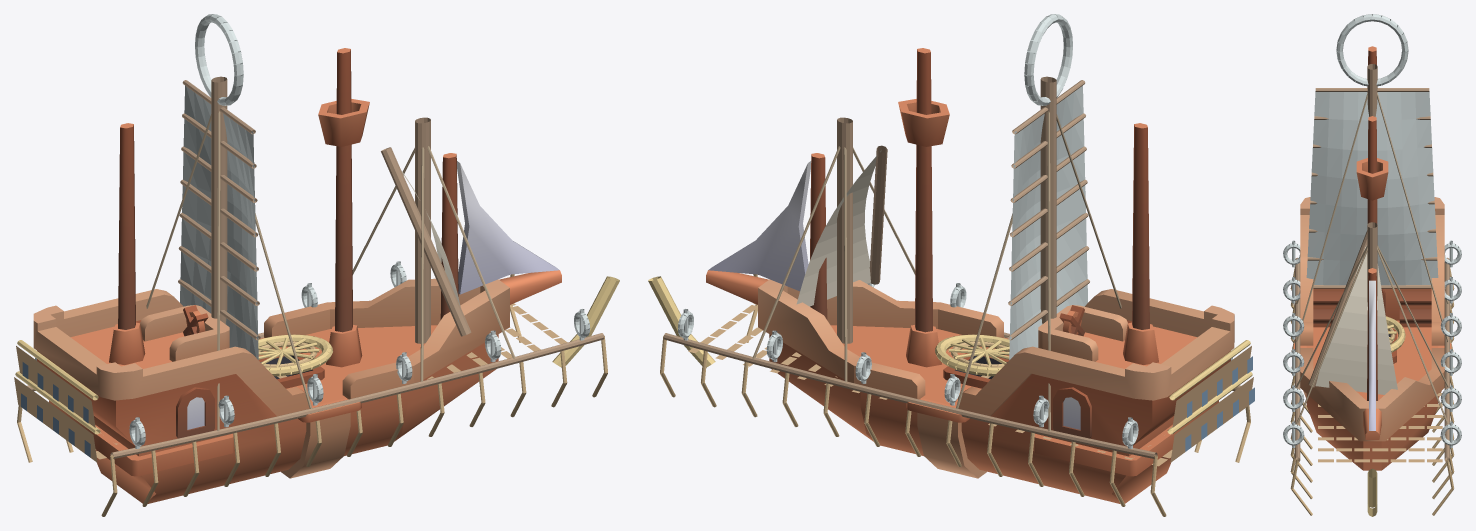
The model's file is mist_seeker-custom.glb.
3 renders of one model, left to right at view 1: azimuth 30°, elevation 25°; view 2: azimuth 150°, elevation 25°; view 3: azimuth 270°, elevation 25°, orthographic. The views are drawn at different scales.
Parts seen in each view (by area): view 1: ship-medium, mist_seeker-custom-geometry; view 2: ship-medium, mist_seeker-custom-geometry; view 3: mist_seeker-custom-geometry, ship-medium.
Part boxes in pixels (x1,y1,x2,y2): ship-medium: [33, 48, 561, 503]; mist_seeker-custom-geometry: [14, 14, 619, 516]; ship-medium: [706, 48, 1234, 503]; mist_seeker-custom-geometry: [648, 14, 1254, 516]; mist_seeker-custom-geometry: [1283, 14, 1461, 516]; ship-medium: [1293, 46, 1451, 470].
Size of the model in its own units: 35.13 by 27 by 11.5.
Materials: 9 (1 with a texture image).
